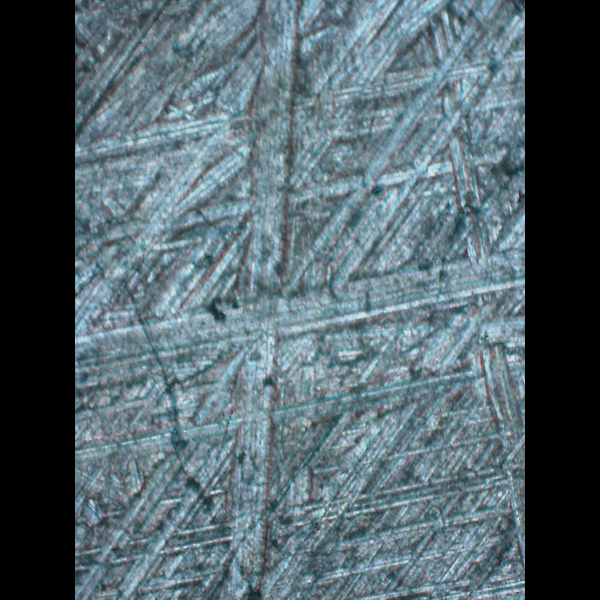d: (75, 230, 522, 431), (203, 4, 309, 600)
